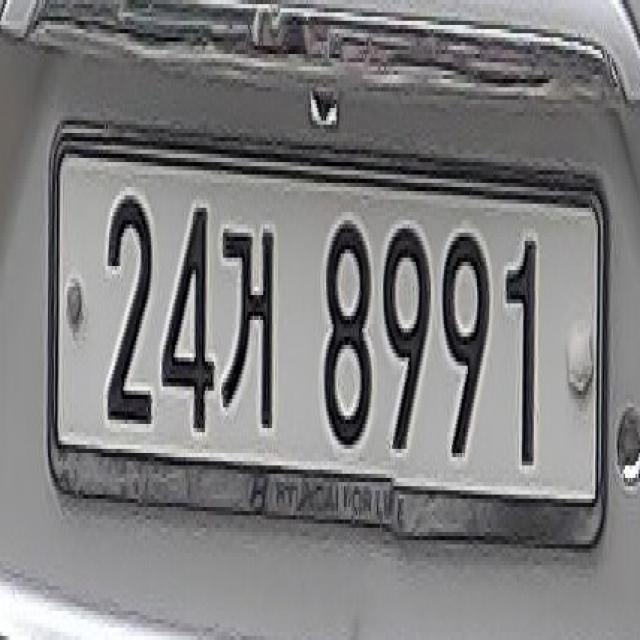1: (502, 218, 547, 484)
2: (104, 175, 155, 437)
4: (161, 181, 218, 440)
8: (317, 200, 374, 451)
9: (437, 214, 495, 476), (381, 214, 434, 461)
geo: (222, 202, 277, 444)
license_plate: (53, 128, 606, 535)
